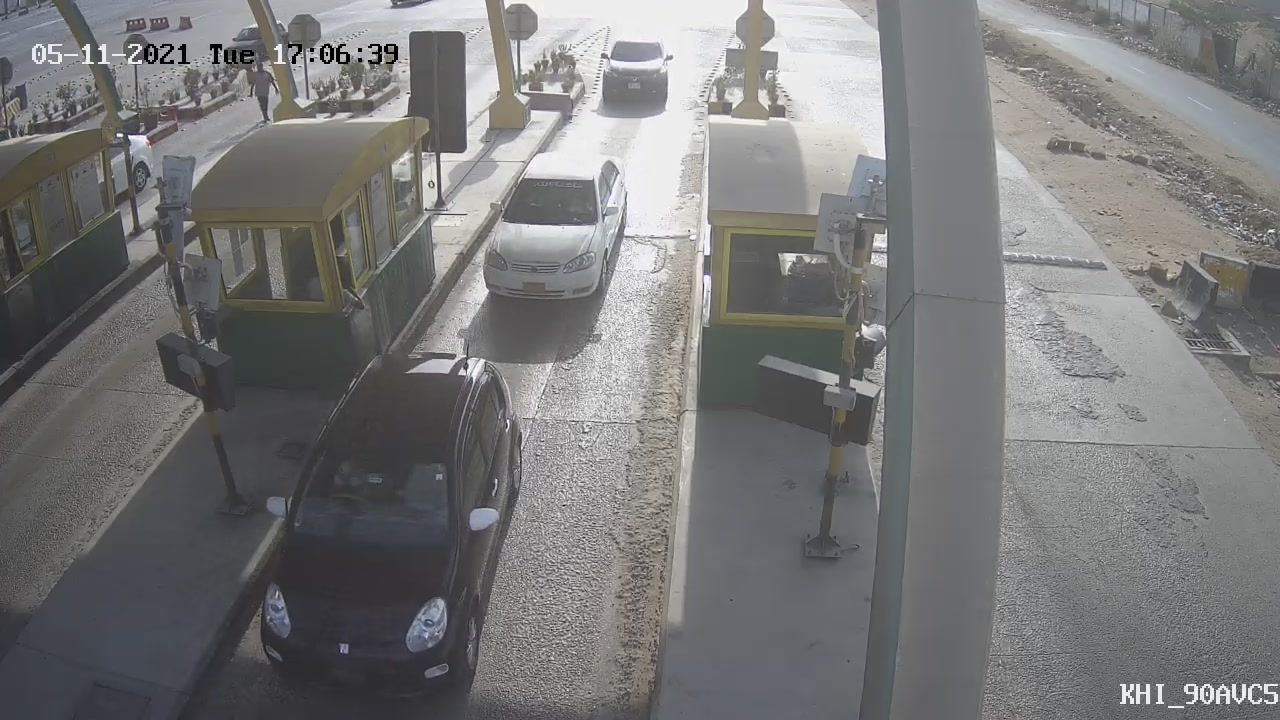F1: (470, 135, 643, 326)
